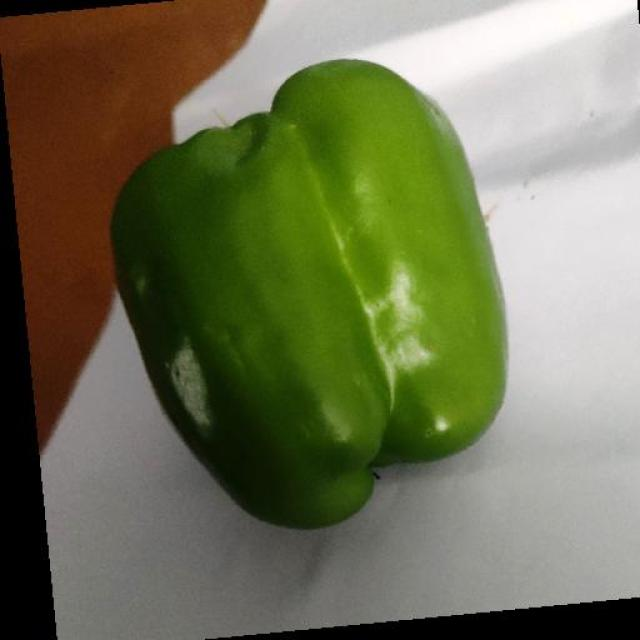Stale_Capsicum: (105, 162, 361, 509)
